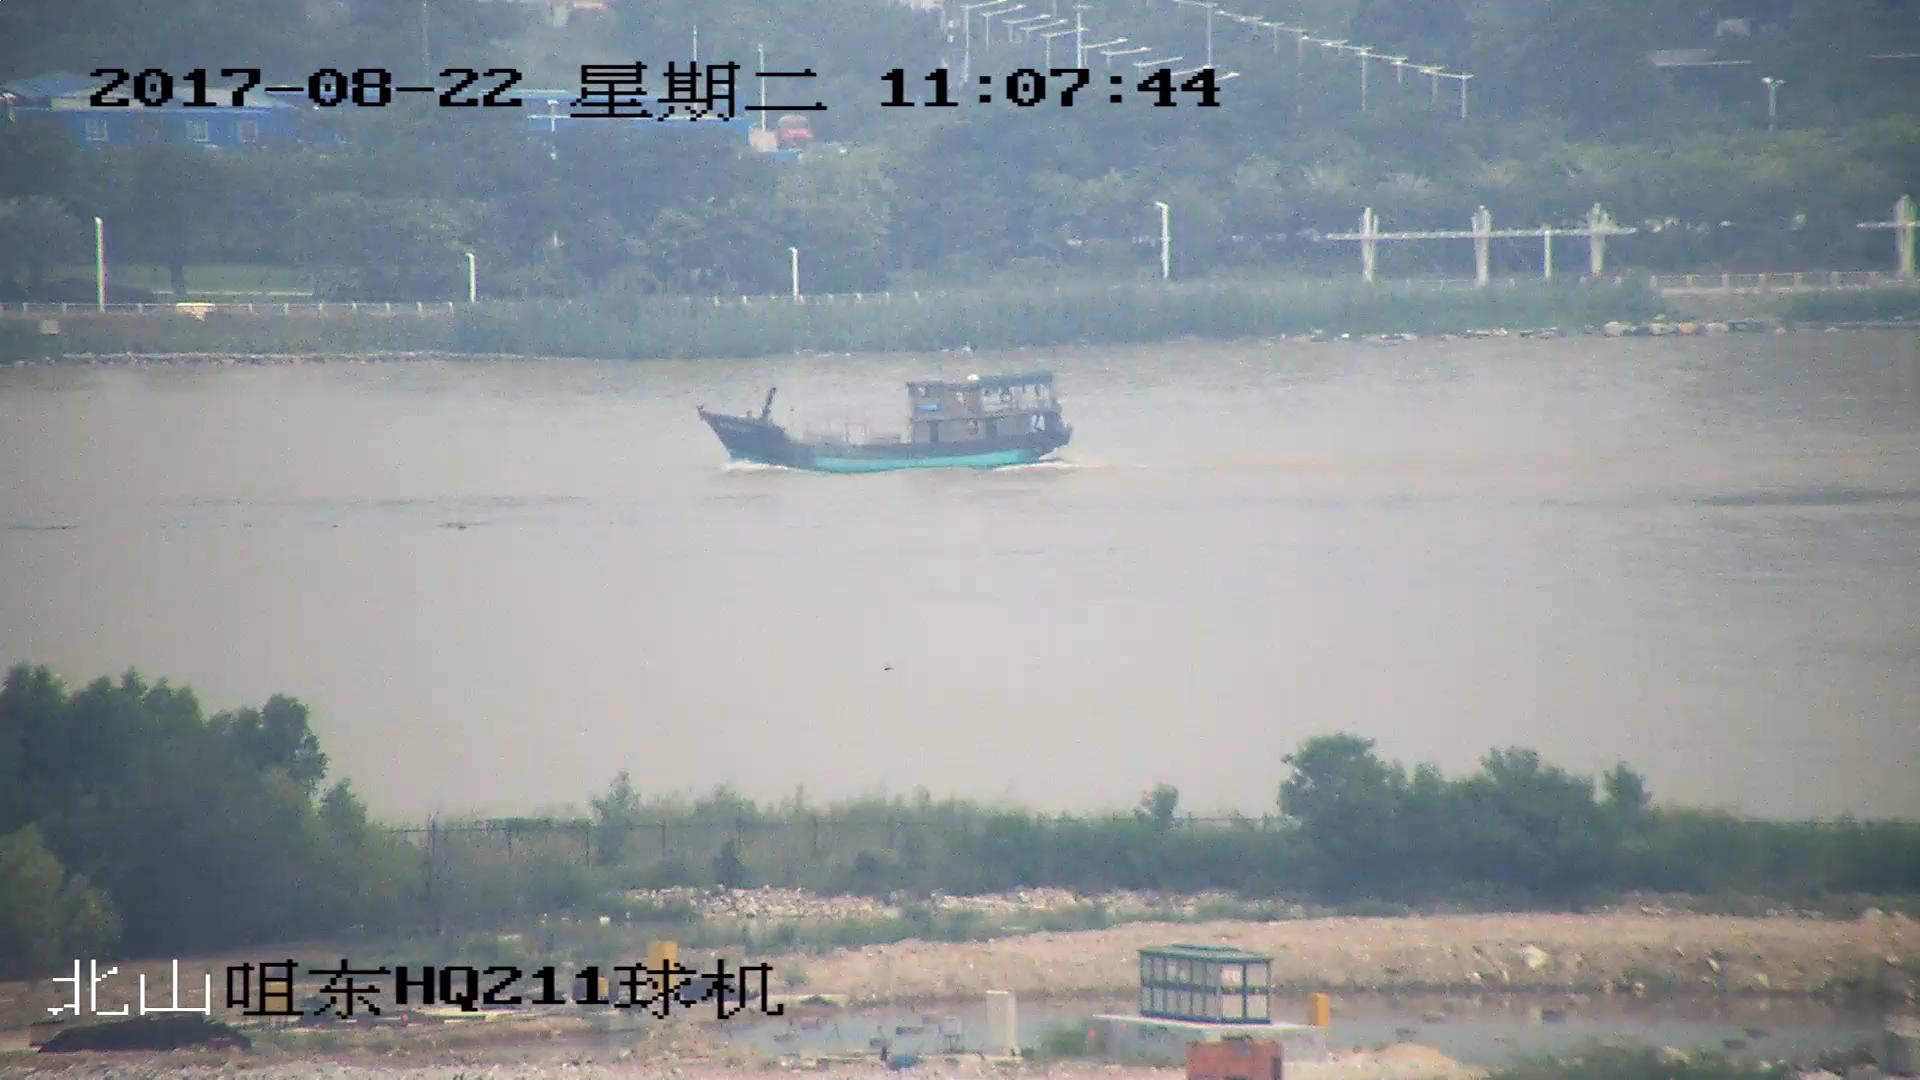fishing boat: (704, 365, 1071, 477)
